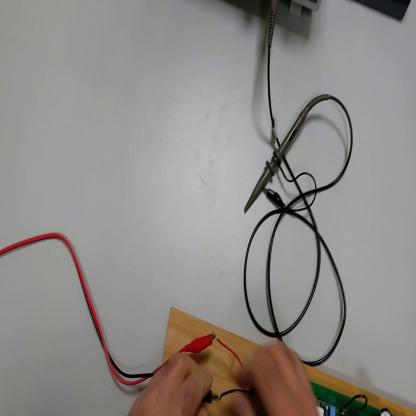hand: (231, 343, 320, 414), (132, 353, 214, 416)
high voltage board: (214, 331, 395, 416)
oscilloscope: (287, 2, 324, 18)
oscilloscope probe tip: (245, 110, 312, 215)
working area: (163, 306, 414, 414)
